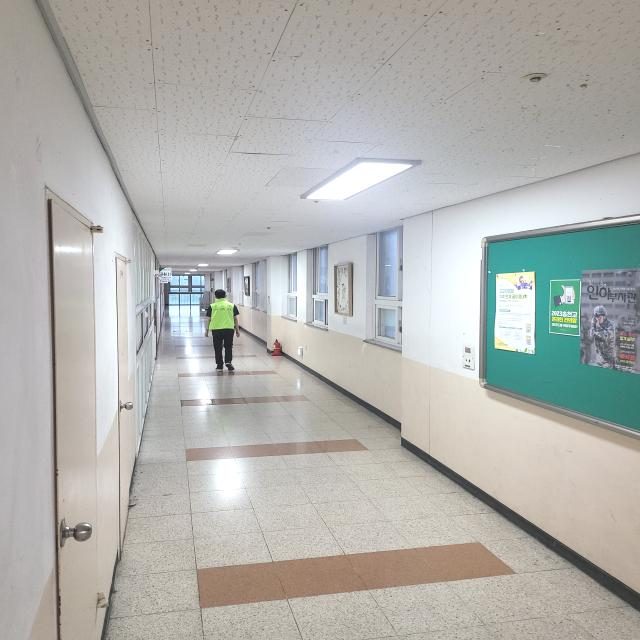weston_spy: (205, 294, 244, 337)
